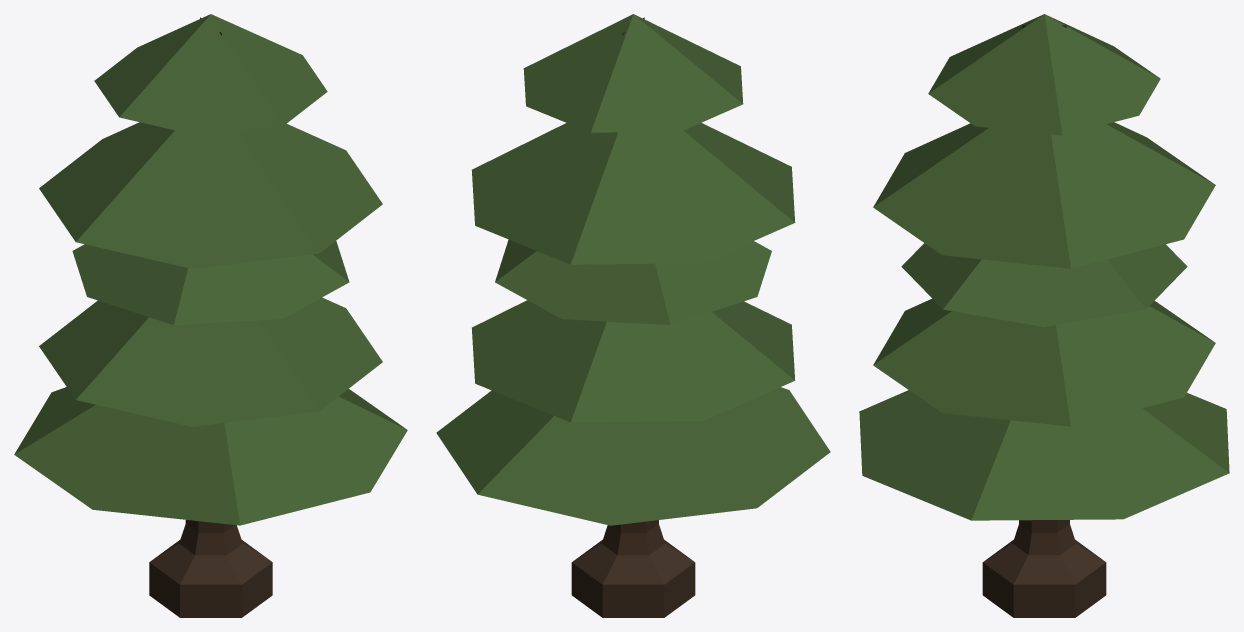
The model's file is Tree_Pine_1D.fbx.
3 views of the same model, side by side, from view 1: azimuth 30°, elevation 25°; view 2: azimuth 150°, elevation 25°; view 3: azimuth 270°, elevation 25° (orthographic).
Visible parts, largest first — view 1: Tree_Pine_1D; view 2: Tree_Pine_1D; view 3: Tree_Pine_1D.
Part boxes in pixels (x1=…): Tree_Pine_1D: x1=14, y1=14, x2=407, y2=617; Tree_Pine_1D: x1=436, y1=14, x2=830, y2=617; Tree_Pine_1D: x1=859, y1=14, x2=1229, y2=617.
Size of the model in its own units: 0.7758 by 1.34 by 0.7758.
